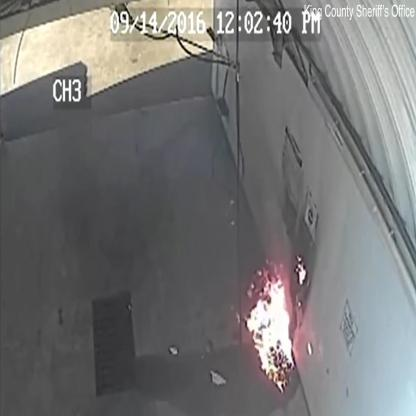fire: (244, 276, 294, 393), (295, 256, 307, 284)
